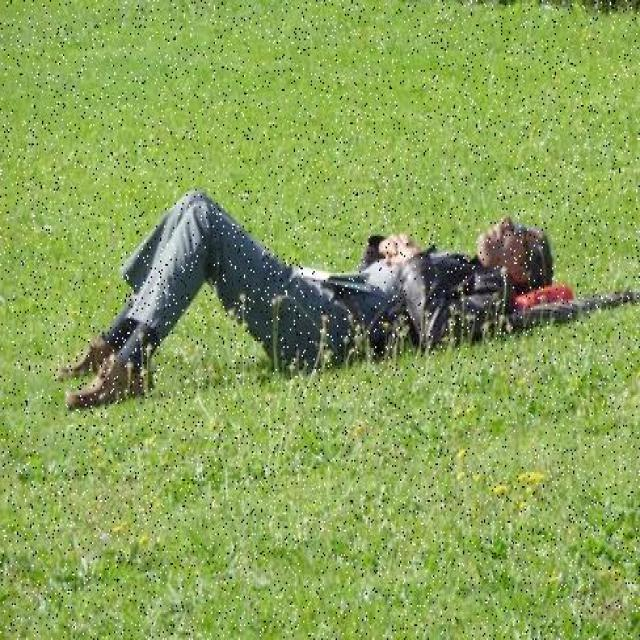fall: (61, 200, 552, 410)
